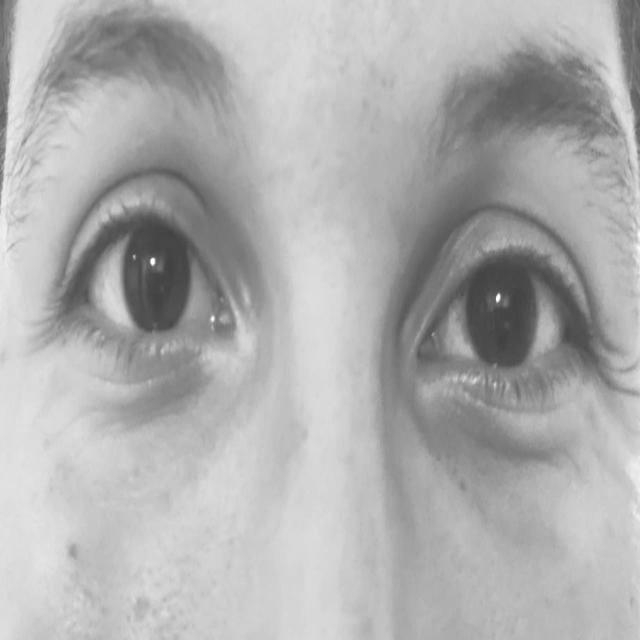real: (29, 30, 627, 494)
